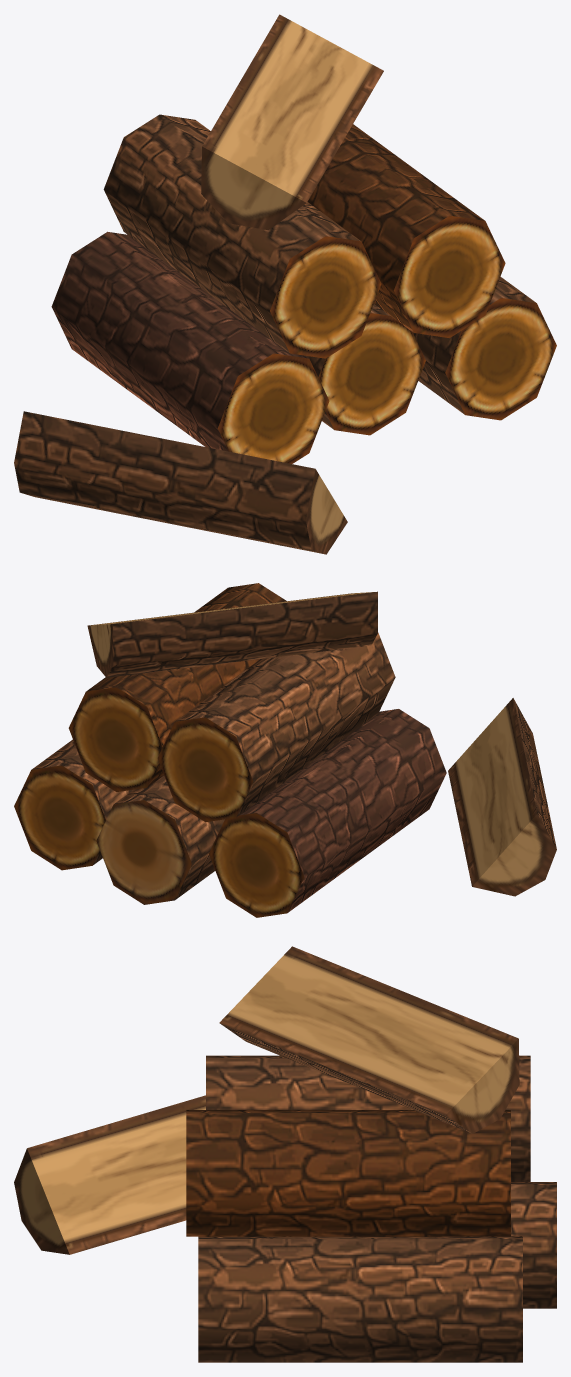
The model's file is woodPile_A.fbx.
3 views of the same model, one above another, from view 1: azimuth 30°, elevation 25°; view 2: azimuth 150°, elevation 25°; view 3: azimuth 270°, elevation 25° (orthographic). The views are drawn at different scales.
Visible parts, largest first — view 1: woodPile_A; view 2: woodPile_A; view 3: woodPile_A.
Boxes of the visible parts, left/top/right/bottom form: woodPile_A: left=14, top=14, right=556, bottom=554; woodPile_A: left=14, top=583, right=556, bottom=917; woodPile_A: left=14, top=946, right=556, bottom=1362.
Size of the model in its own units: 98.84 by 58.55 by 94.11.
